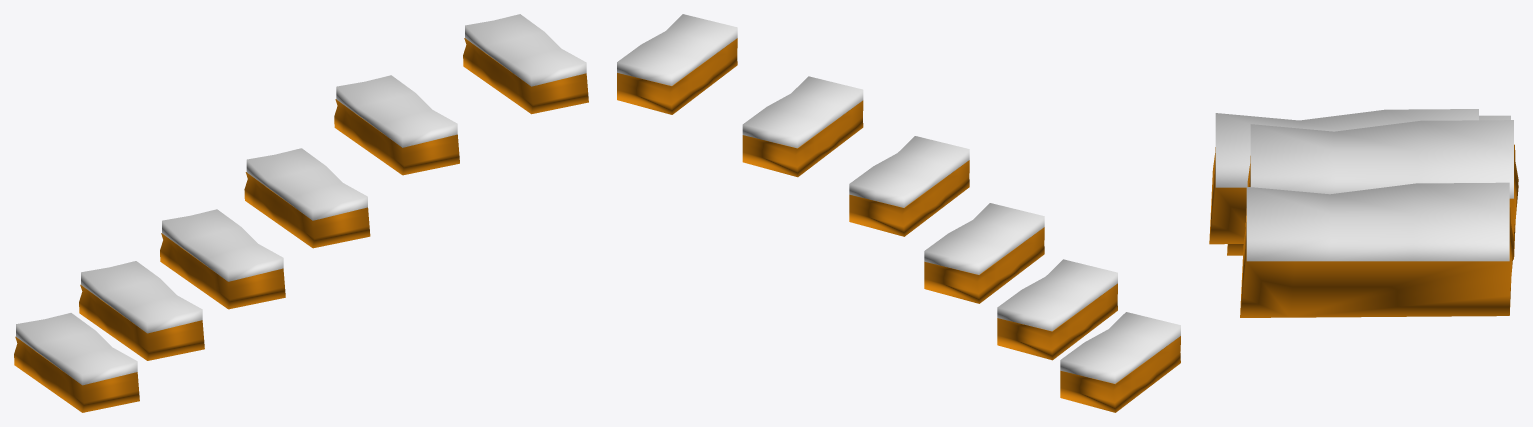
Rendered from lowpolySteps.fbx.
3 renders of one model, left to right at view 1: azimuth 30°, elevation 25°; view 2: azimuth 150°, elevation 25°; view 3: azimuth 270°, elevation 25°, orthographic. The views are drawn at different scales.
Parts seen in each view (by area): view 1: Steps.010, Steps.012, Steps.004, Steps.003, Steps.008, Steps.006, Steps.007, Steps.009, Steps.001, Steps.005, Steps.002, Steps.011; view 2: Steps.010, Steps.003, Steps.006, Steps.012, Steps.004, Steps.008, Steps.009, Steps.001, Steps.005, Steps.011, Steps.002, Steps.007; view 3: Steps.012, Steps.010, Steps.011, Steps.008, Steps.007, Steps.009.
Boxes of the visible parts, box(x1,y1,x2,y2) form: Steps.010: box(336, 75, 457, 147); Steps.012: box(465, 14, 586, 86); Steps.004: box(81, 261, 202, 333); Steps.003: box(16, 313, 137, 385); Steps.008: box(246, 148, 367, 220); Steps.006: box(162, 209, 283, 281); Steps.007: box(244, 172, 370, 248); Steps.009: box(334, 99, 459, 175); Steps.001: box(79, 284, 204, 360); Steps.005: box(160, 233, 285, 309); Steps.002: box(14, 336, 139, 412); Steps.011: box(463, 38, 588, 114); Steps.010: box(742, 76, 863, 148); Steps.003: box(1060, 312, 1180, 383); Steps.006: box(924, 203, 1044, 274); Steps.012: box(617, 14, 737, 85); Steps.004: box(997, 259, 1117, 331); Steps.008: box(849, 136, 969, 207); Steps.009: box(742, 100, 863, 177); Steps.001: box(997, 283, 1117, 360); Steps.005: box(924, 227, 1044, 303); Steps.011: box(617, 38, 737, 114); Steps.002: box(1060, 336, 1180, 412); Steps.007: box(849, 160, 969, 236); Steps.012: box(1246, 182, 1509, 261); Steps.010: box(1250, 120, 1513, 198); Steps.011: box(1240, 207, 1514, 317); Steps.008: box(1215, 109, 1478, 187); Steps.007: box(1209, 147, 1246, 244); Steps.009: box(1245, 144, 1518, 252).
Size of the model in its own units: 904 by 394 by 241.
